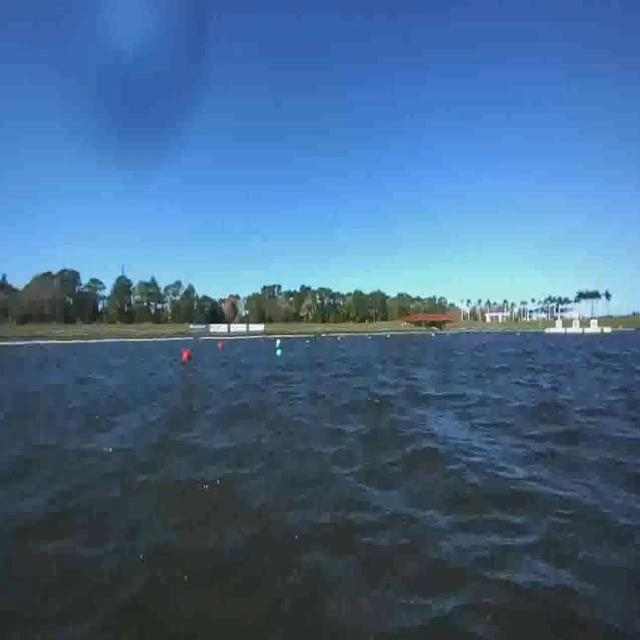green-buoy: (276, 345, 284, 365)
red-buoy: (183, 350, 190, 361), (219, 341, 223, 352)
